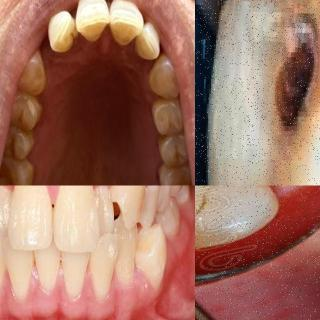Gum Swelling: (24, 268, 45, 300)
cavities: (239, 0, 320, 161)
maligned: (135, 222, 167, 294), (89, 235, 119, 297), (47, 8, 74, 54), (90, 188, 113, 224), (144, 186, 162, 230), (0, 186, 12, 235)
